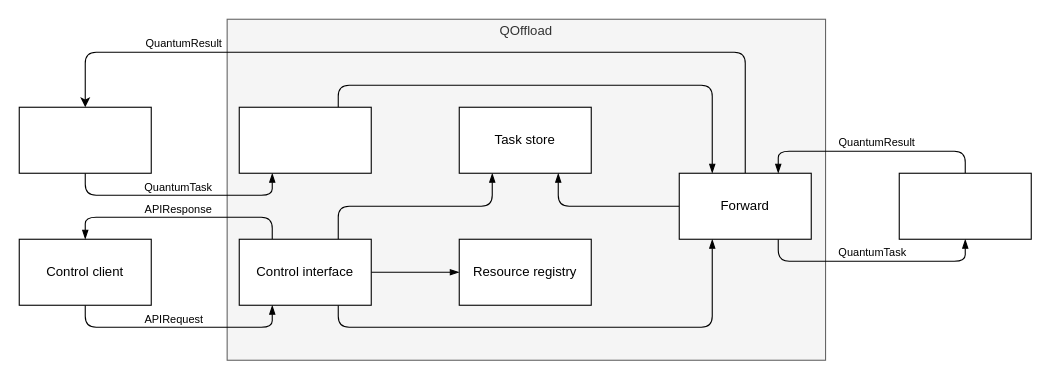
Some shapes in this 1051 by 380 pixel diagram are drawn without their labels. The centre of each missing label's shape, as x and y in pixels:
Quantum Resource Manager: point (964, 205)
Task client: point (84, 139)
Task interface: point (304, 139)
